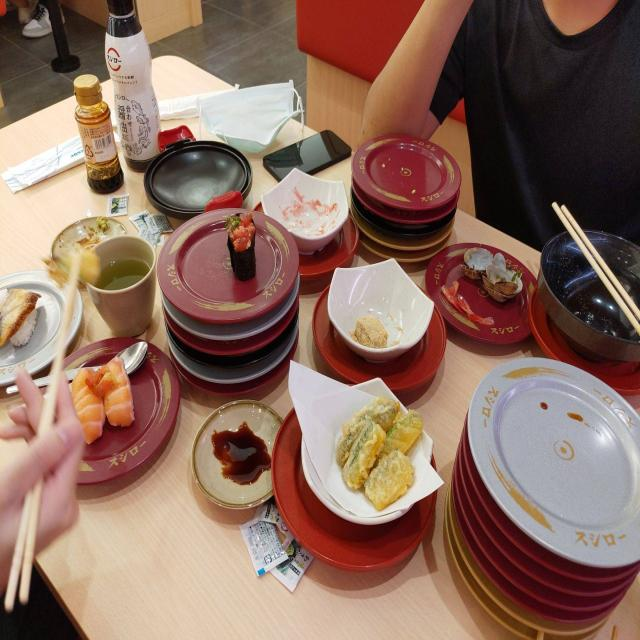janback: (358, 208, 447, 235), (184, 350, 262, 364)
jangold: (474, 590, 534, 622), (361, 238, 445, 260), (354, 226, 454, 242), (500, 614, 537, 638)
janred: (39, 349, 180, 479), (276, 414, 384, 567), (317, 276, 444, 382), (531, 288, 640, 403), (167, 223, 283, 308), (432, 254, 526, 342), (352, 138, 458, 205), (256, 202, 356, 268), (351, 180, 458, 218), (525, 544, 624, 580), (533, 570, 621, 597), (531, 590, 619, 612), (172, 336, 272, 352), (526, 603, 602, 623), (188, 381, 273, 394)
janwoven: (468, 392, 640, 553), (0, 271, 82, 364), (158, 296, 301, 338), (181, 363, 277, 375)
